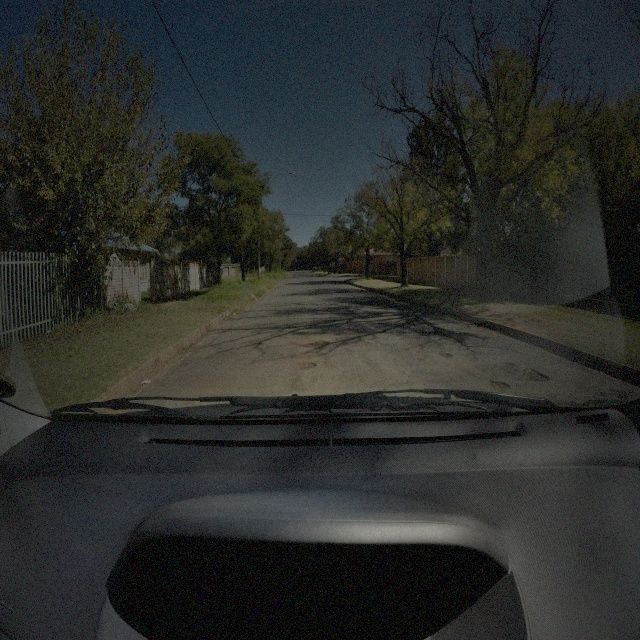pothole: (522, 366, 549, 385), (490, 378, 511, 392), (294, 359, 317, 371), (438, 350, 454, 360), (355, 339, 370, 349), (312, 340, 328, 349)
